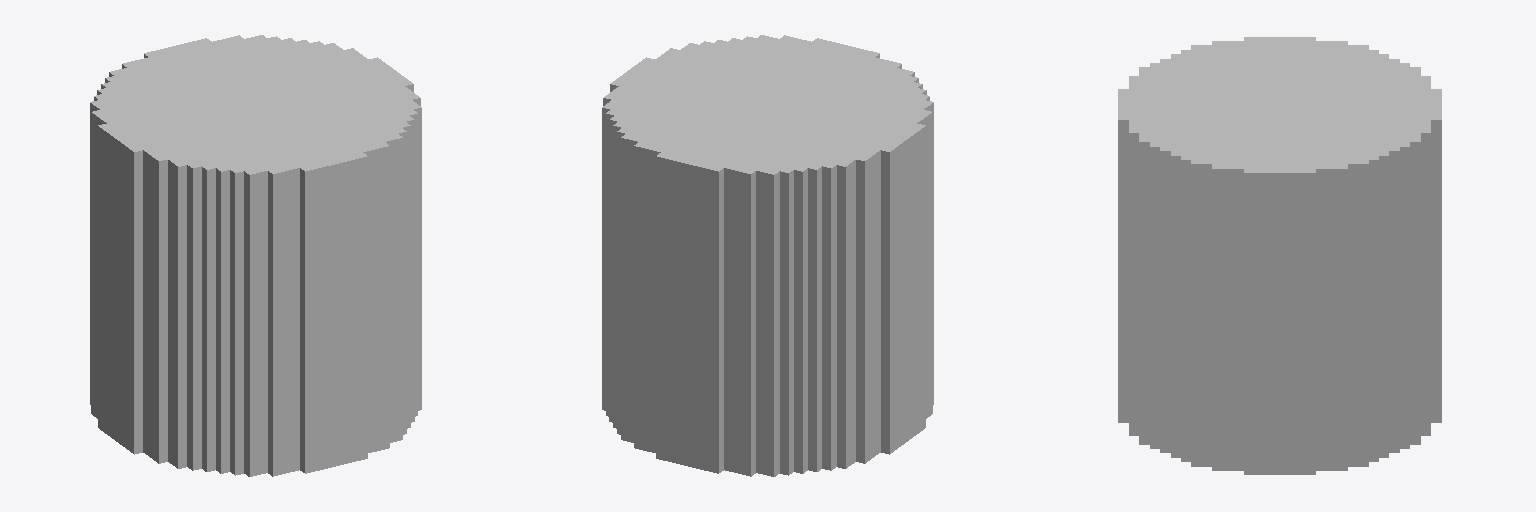
File: cyl.obj
3 views of the same model, side by side, from view 1: azimuth 30°, elevation 25°; view 2: azimuth 150°, elevation 25°; view 3: azimuth 270°, elevation 25° (orthographic).
Parts seen in each view (by area): view 1: sphereplz-2; view 2: sphereplz-2; view 3: sphereplz-2.
Boxes of the visible parts, box(x1,y1,x2,y2) form: sphereplz-2: box(90, 35, 421, 476); sphereplz-2: box(602, 35, 933, 476); sphereplz-2: box(1118, 37, 1441, 474).
Bounding box in the file's own units: 31 × 32 × 31.